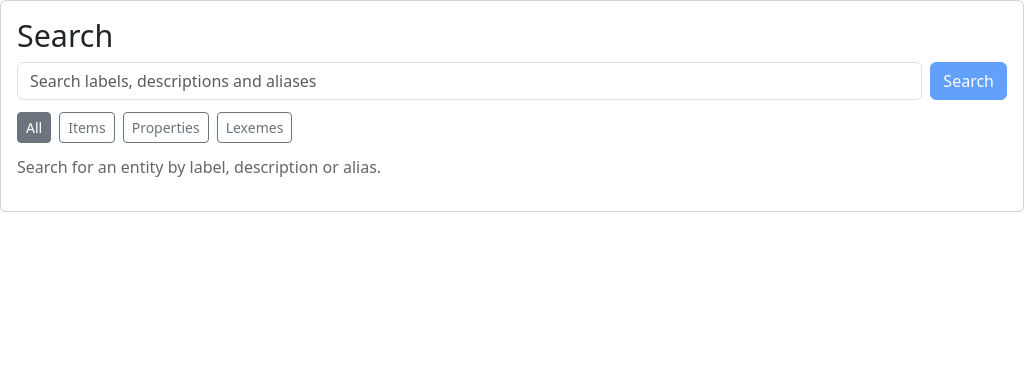
Scenario: SearchView › shows the type of every hit
The width and height of the screenshot is (1024, 379).
In the search field with test id "search-input": (470, 80) [17,62,922,100], type "a"
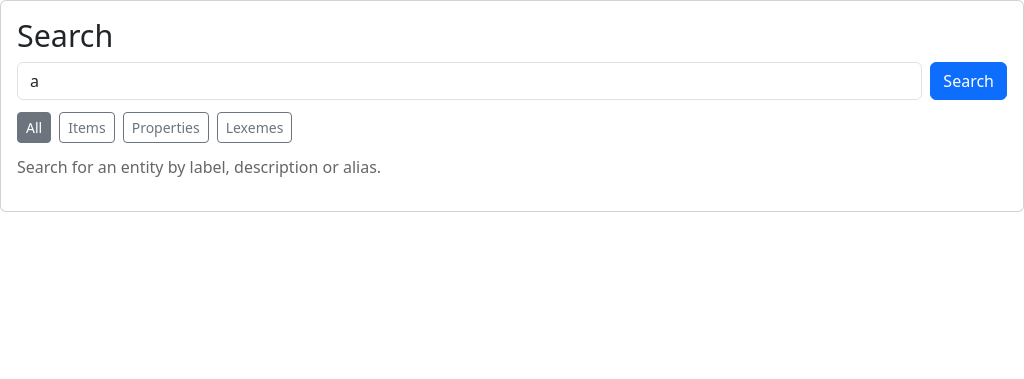
Submit the form with test id "search-form", box [17,62,1007,100]
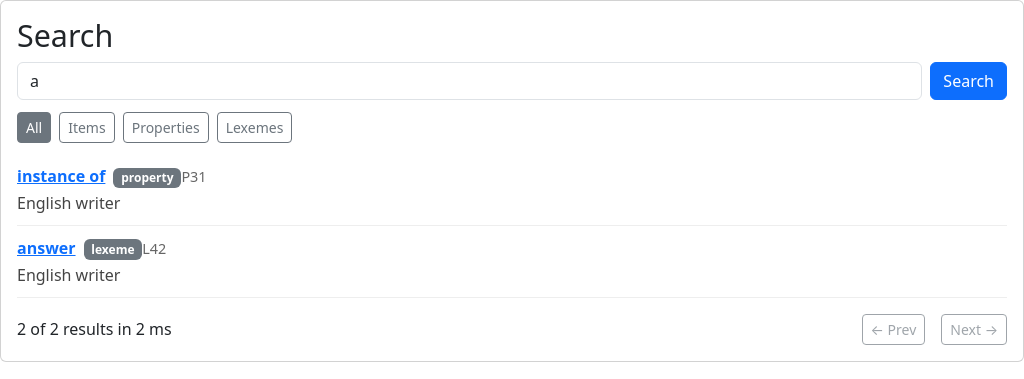
Check: the elements with test id "search-result-type" read "property", "lexeme", in this order, box [113,168,181,188]; [84,240,142,260]
